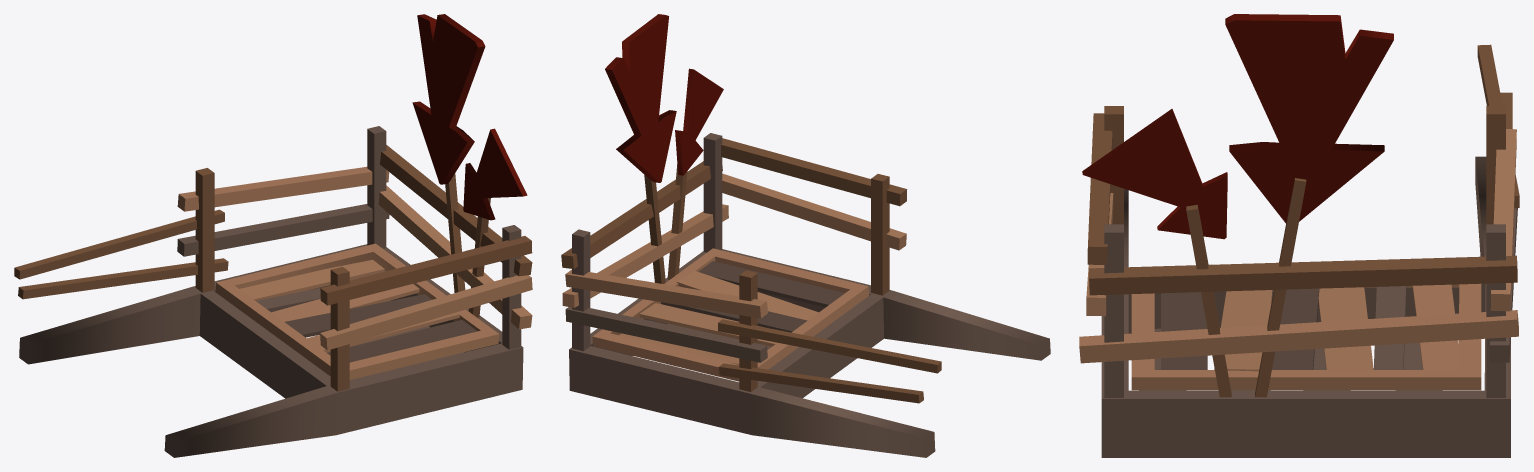
File: Pressureplate_lvl1_garry_home.fbx
The picture shows the model from 3 angles, left to right: view 1: azimuth 30°, elevation 25°; view 2: azimuth 150°, elevation 25°; view 3: azimuth 270°, elevation 25°; orthographic projection. The views are drawn at different scales.
Visible parts, largest first — view 1: pressureplate_pt_2, pressure_plate_p_1; view 2: pressureplate_pt_2, pressure_plate_p_1; view 3: pressureplate_pt_2, pressure_plate_p_1.
Boxes of the visible parts, left/top/right/bottom form: pressureplate_pt_2: left=14, top=14, right=532, bottom=457; pressure_plate_p_1: left=215, top=243, right=499, bottom=379; pressureplate_pt_2: left=561, top=14, right=1050, bottom=457; pressure_plate_p_1: left=592, top=248, right=869, bottom=381; pressureplate_pt_2: left=1079, top=14, right=1519, bottom=457; pressure_plate_p_1: left=1131, top=283, right=1481, bottom=390.
Bounding box in the file's own units: 4.49 × 3.57 × 3.21.
